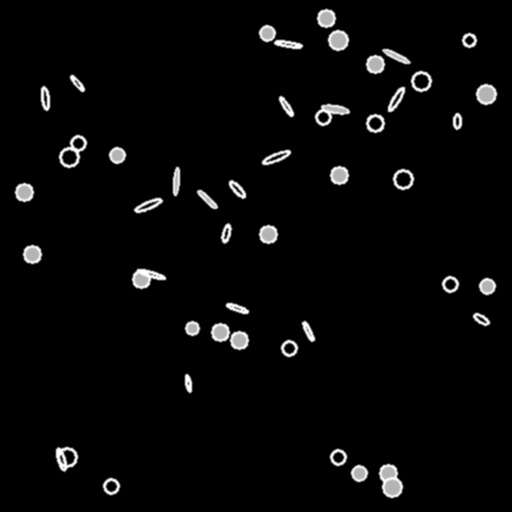pseudomonas: (261, 148, 291, 166), (382, 47, 410, 65), (387, 86, 405, 112), (134, 197, 162, 213), (227, 179, 247, 199), (197, 189, 217, 209), (277, 95, 295, 117), (137, 268, 165, 280), (55, 447, 67, 471), (69, 74, 85, 92), (301, 321, 315, 341), (274, 39, 302, 49), (226, 302, 248, 314), (322, 104, 348, 114), (472, 312, 490, 326), (40, 86, 50, 110), (172, 168, 180, 194), (221, 224, 231, 242), (184, 374, 192, 392), (454, 113, 460, 129)
synechocystis: (394, 170, 412, 188), (477, 85, 495, 103), (329, 31, 347, 49), (60, 148, 78, 166), (412, 72, 430, 90), (383, 478, 401, 496), (58, 448, 76, 466), (380, 465, 396, 481), (212, 324, 228, 340), (231, 332, 247, 348), (367, 56, 383, 72), (318, 10, 334, 26), (260, 226, 276, 242), (133, 271, 149, 287), (24, 246, 40, 262), (331, 167, 347, 183), (16, 184, 32, 200), (367, 115, 383, 131), (443, 277, 457, 291), (71, 136, 85, 150), (316, 110, 330, 124), (331, 450, 345, 464), (110, 148, 124, 162), (480, 279, 494, 293), (104, 479, 118, 493), (282, 341, 296, 355), (352, 466, 366, 480), (260, 26, 274, 40), (463, 34, 475, 46), (186, 322, 198, 334)
